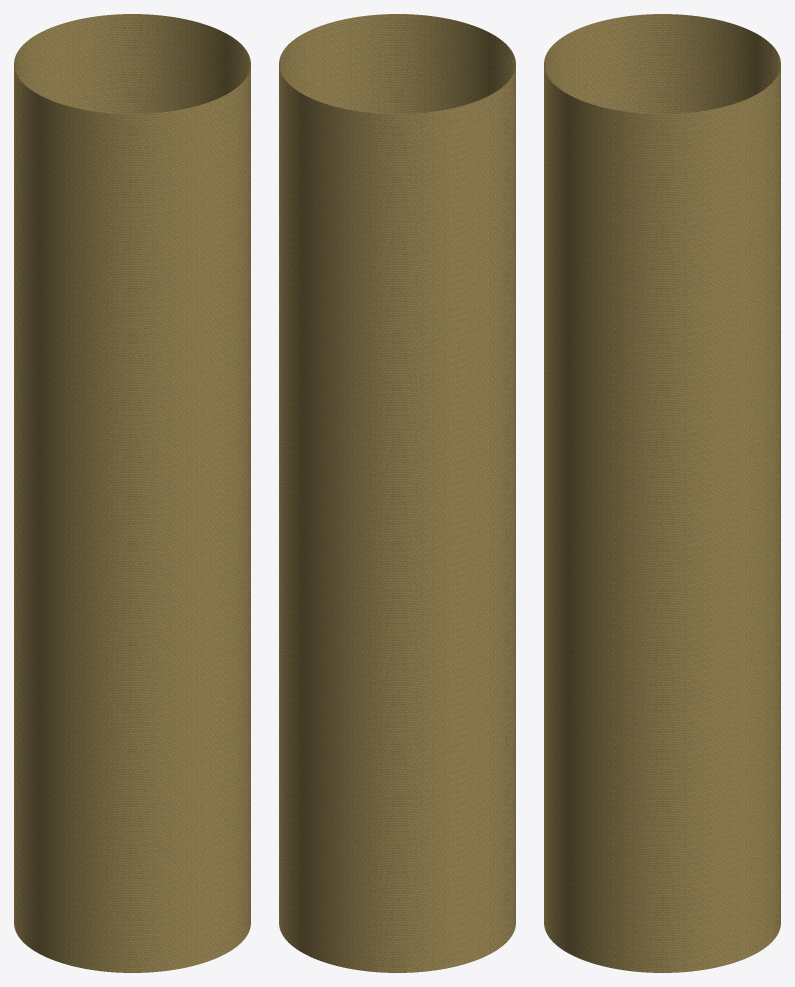
The model's file is tuuba (7).fbx.
3 renders of one model, left to right at view 1: azimuth 30°, elevation 25°; view 2: azimuth 150°, elevation 25°; view 3: azimuth 270°, elevation 25°, orthographic.
Visible parts, largest first — view 1: Cylinder; view 2: Cylinder; view 3: Cylinder.
Part boxes in pixels (x1=…): Cylinder: x1=14, y1=14, x2=250, y2=972; Cylinder: x1=279, y1=14, x2=515, y2=972; Cylinder: x1=544, y1=14, x2=780, y2=972.
Size of the model in its own units: 200 by 800 by 200.
